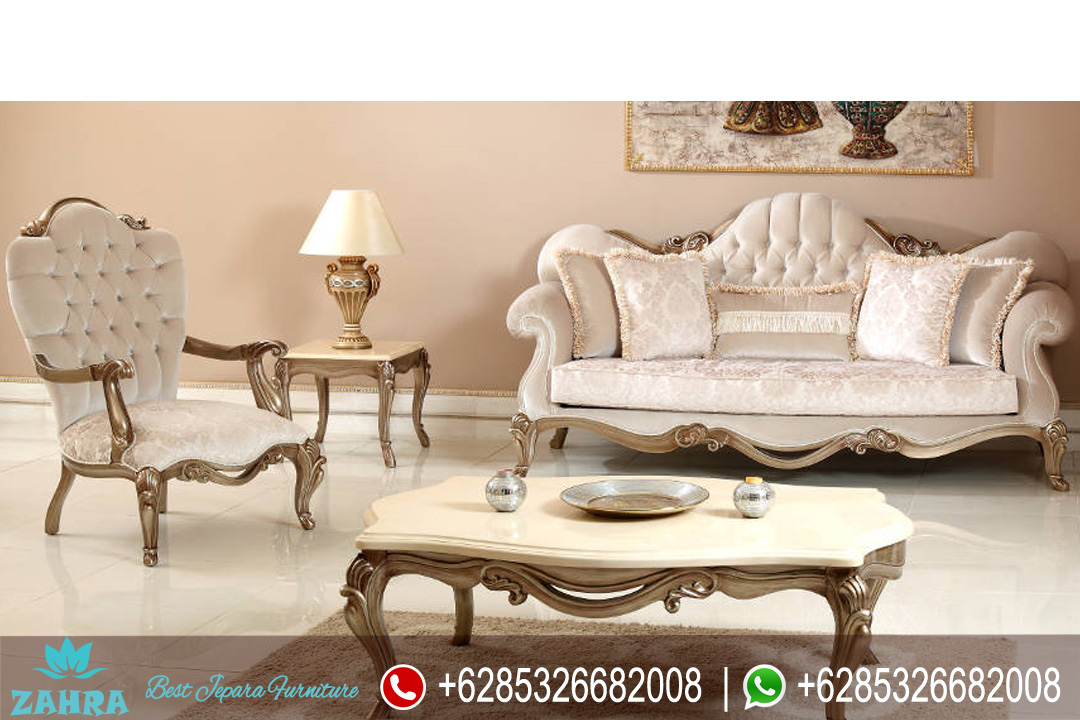Carving Chair: (498, 212, 1058, 499), (17, 196, 347, 555)
Carving Table: (364, 469, 932, 701)
